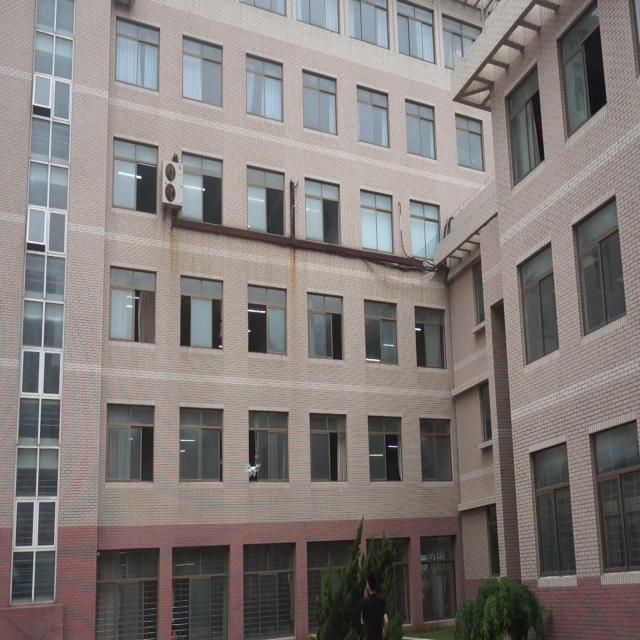UAV: (244, 464, 261, 476)
